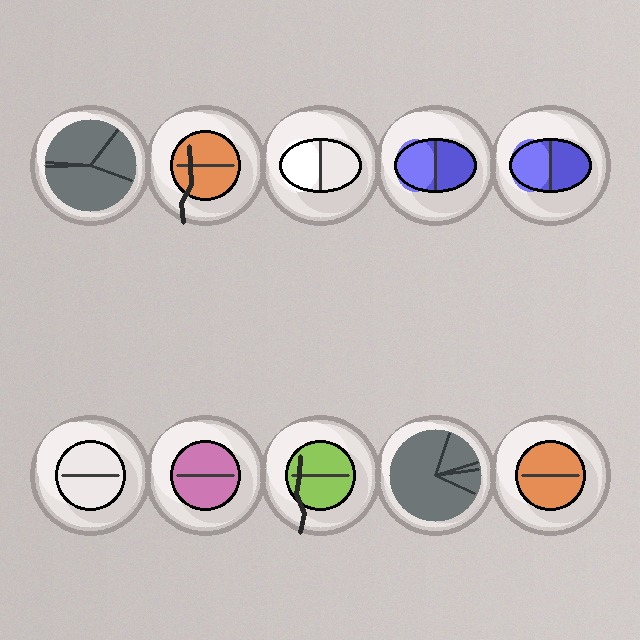crack: (143, 103, 267, 227), (258, 413, 382, 537)
empty: (28, 103, 152, 227), (373, 413, 497, 537)
